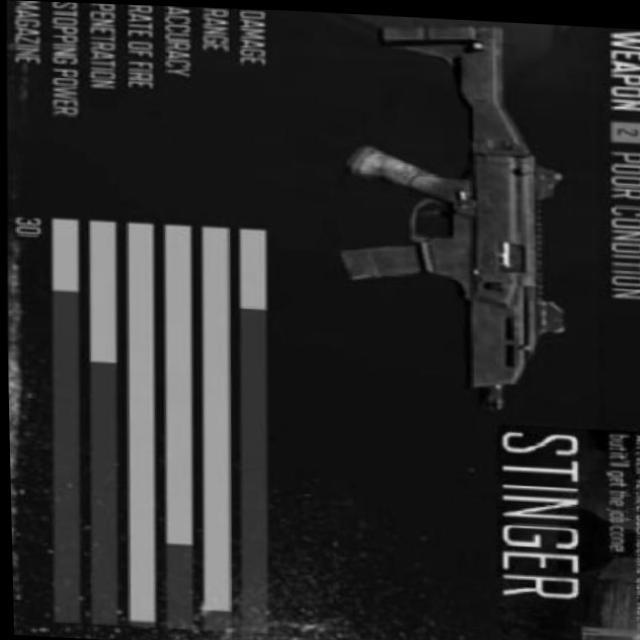weapon: (330, 11, 571, 410)
